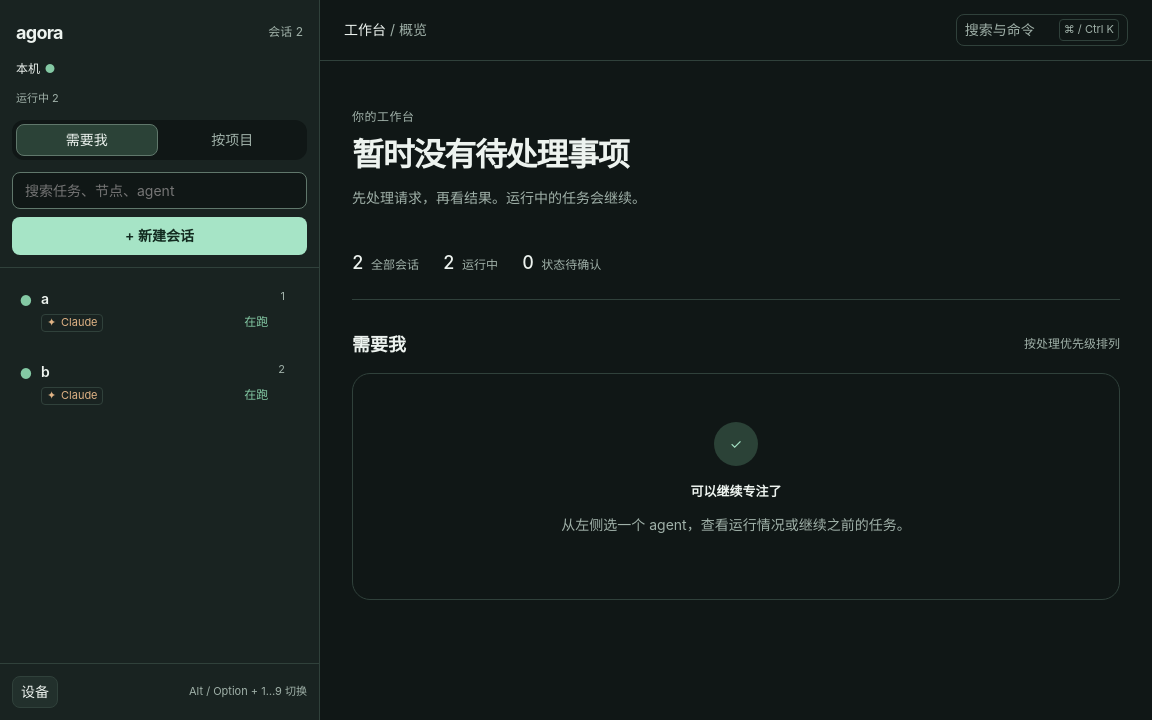
Test: 点通知落到另一行：焦点进回答面板的输入框，不被新终端挂载时的那次 focus 盖掉（A50，agora-4yr.1）
Step 1. Click the button with test id "row-n:a" → click(72, 323), box x1=10 y1=276 x2=294 y2=345
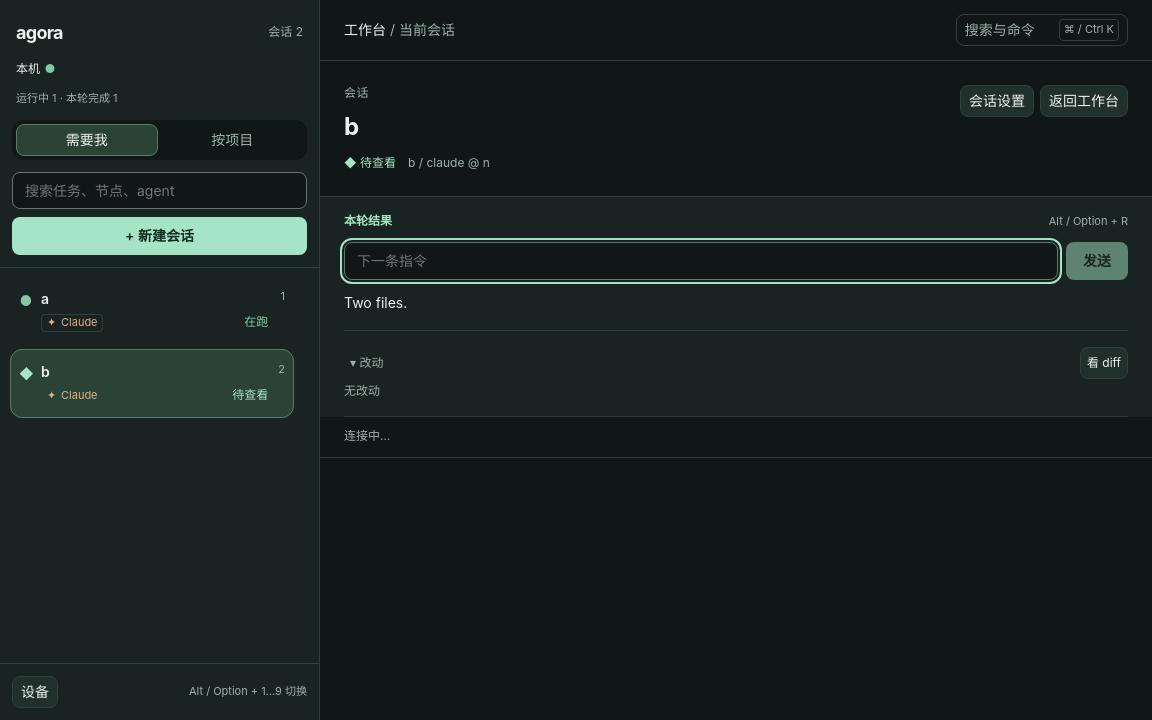
Now the text with test id "crumb" shows "b /", box x1=408 y1=155 x2=490 y2=172
